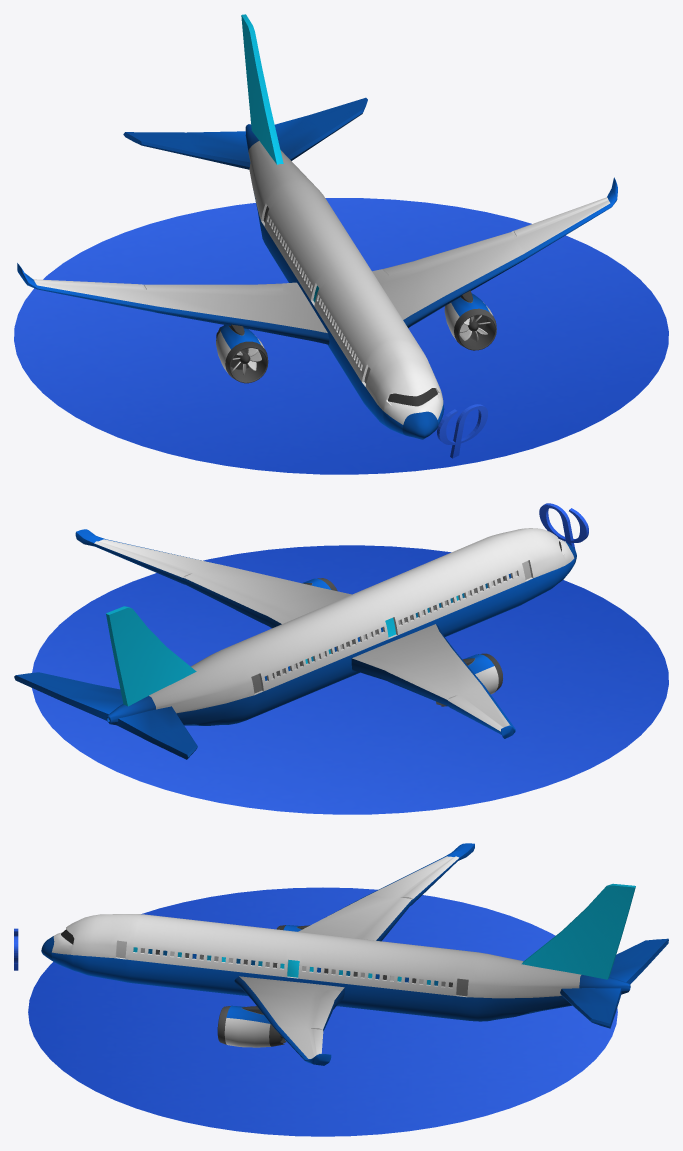
The picture shows the model from 3 angles, top to bottom: view 1: azimuth 30°, elevation 25°; view 2: azimuth 150°, elevation 25°; view 3: azimuth 270°, elevation 25°; orthographic projection. The views are drawn at different scales.
Parts seen in each view (by area): view 1: PlanePhi, Ariplane_14p, Text_Phi; view 2: PlanePhi, Ariplane_14p, Text_Phi; view 3: PlanePhi, Ariplane_14p.
Boxes of the visible parts, x1,y1,x2,y2 form: PlanePhi: [14, 198, 668, 474]; Ariplane_14p: [17, 14, 617, 439]; Text_Phi: [437, 404, 487, 458]; PlanePhi: [32, 545, 668, 814]; Ariplane_14p: [14, 528, 576, 759]; Text_Phi: [539, 503, 588, 549]; PlanePhi: [28, 887, 617, 1136]; Ariplane_14p: [41, 843, 668, 1065].
Bounding box in the file's own units: 133 × 39.86 × 147.
